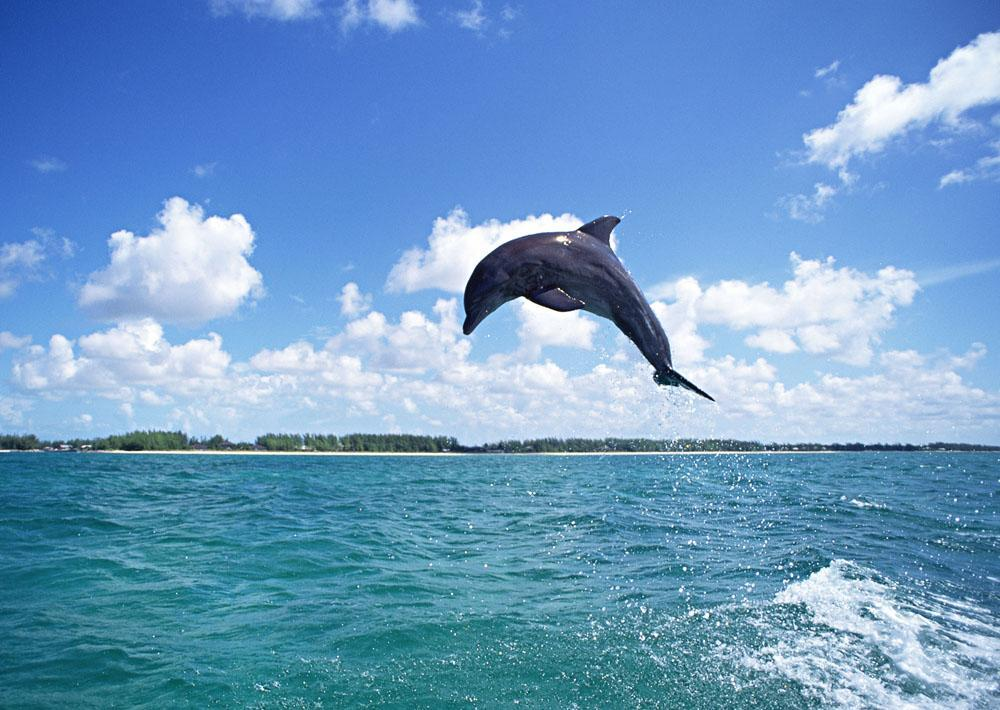fish: (458, 212, 719, 404)
